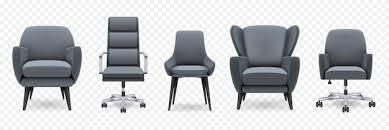chair: (12, 13, 83, 114), (229, 22, 302, 112), (96, 14, 151, 114), (314, 27, 376, 113), (163, 25, 216, 111)
